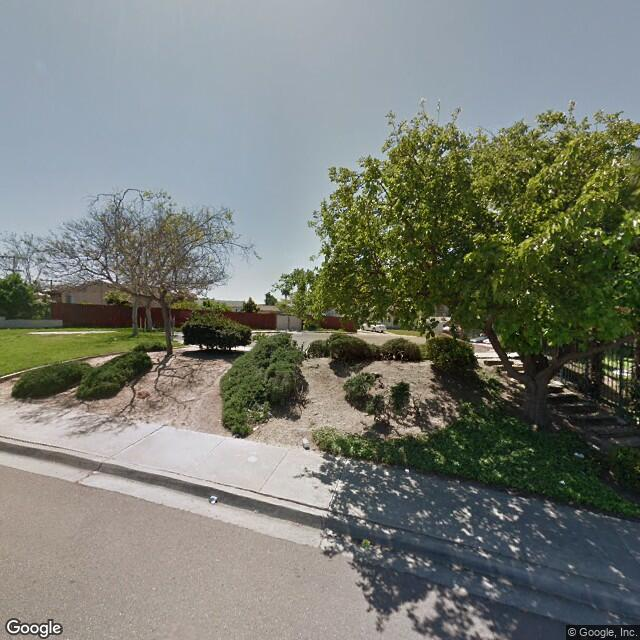litter: (552, 443, 589, 465), (201, 489, 235, 511), (298, 432, 324, 450), (551, 472, 569, 491), (399, 459, 420, 475)
